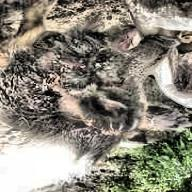boar: (0, 17, 175, 192)
